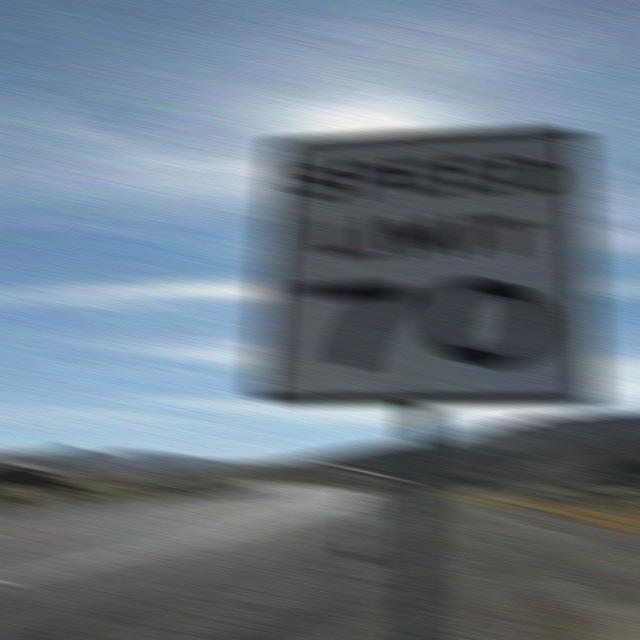speedLimit70: (266, 133, 602, 402)
